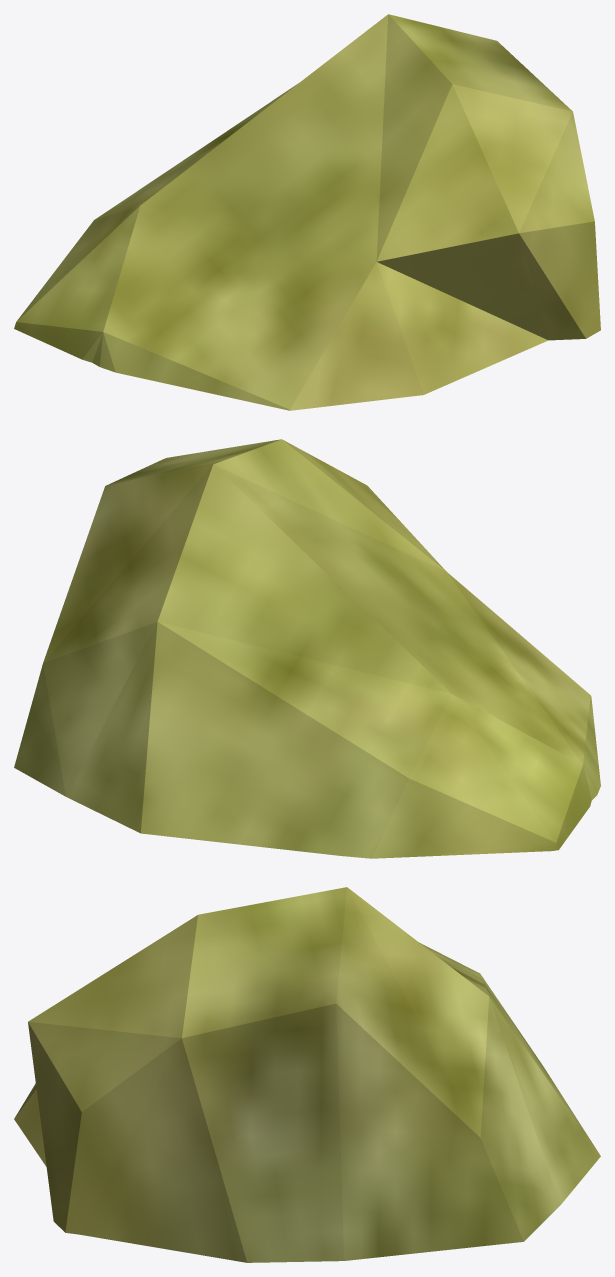
The picture shows the model from 3 angles, top to bottom: view 1: azimuth 30°, elevation 25°; view 2: azimuth 150°, elevation 25°; view 3: azimuth 270°, elevation 25°; orthographic projection. The views are drawn at different scales.
Bounding box in the file's own units: 0.3737 × 0.1821 × 0.3305.
Materials: 1 (1 with a texture image).
